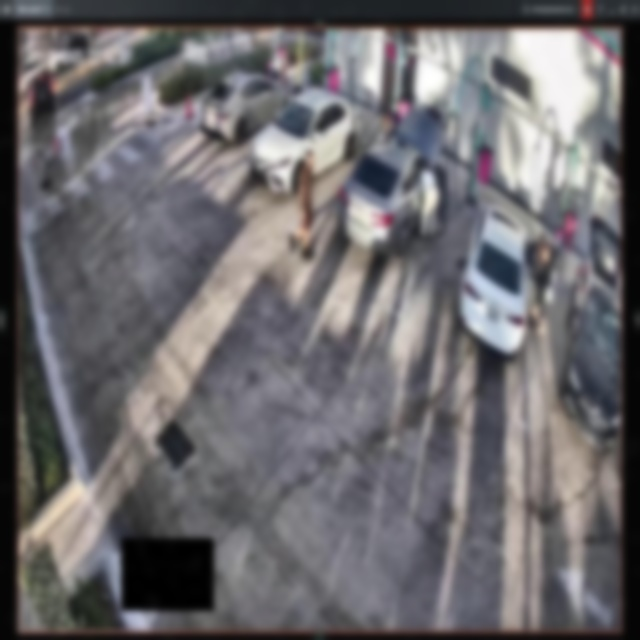Car: (336, 110, 447, 253), (459, 202, 557, 356), (253, 90, 362, 188), (199, 68, 291, 144)
